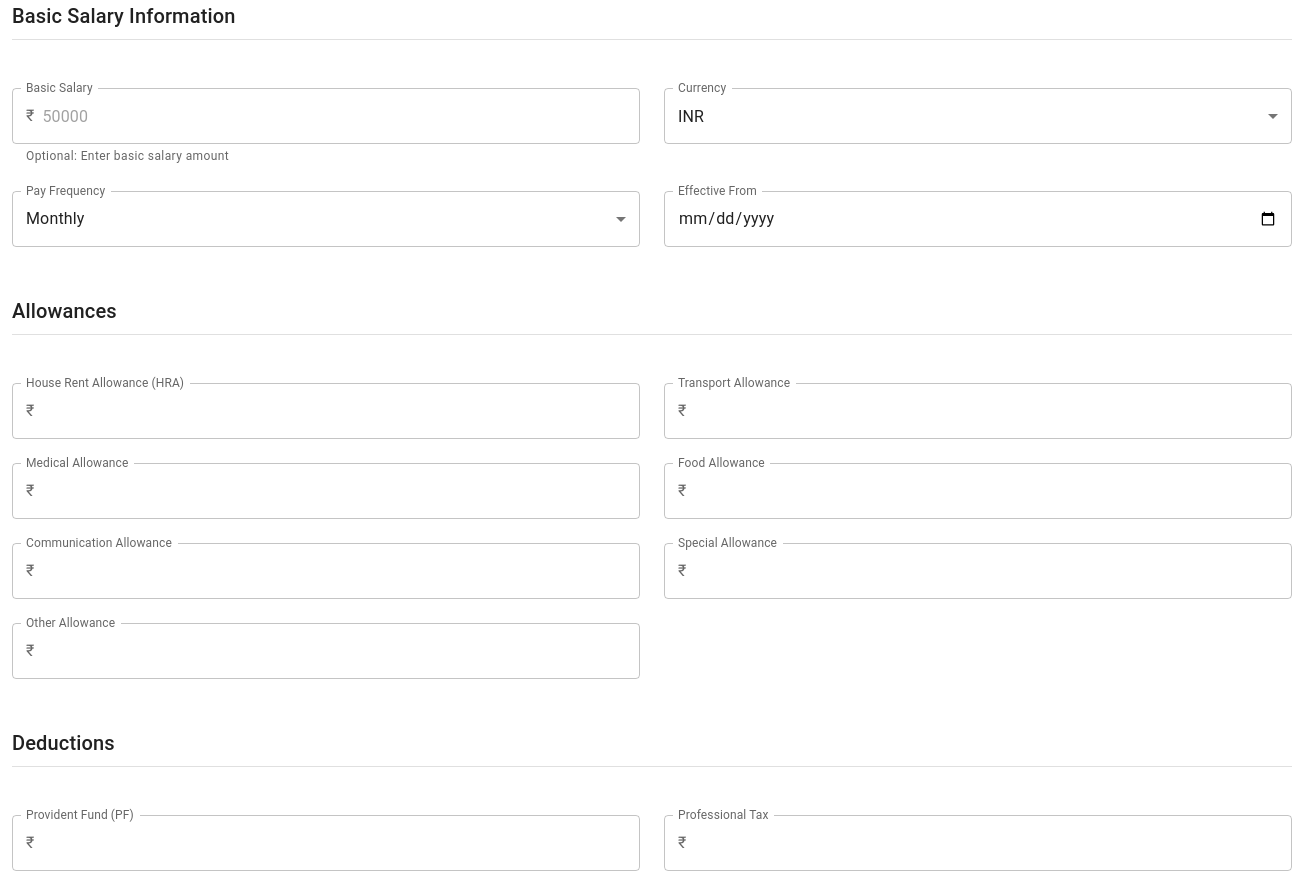
Test: SalaryStructureTab › Currency Select › should have INR, USD, EUR, GBP options
This screenshot has width=1304, height=888.
Step 1. Press the mouse on the dropdown with id "salary" → (691, 116), box [678,106,704,126]
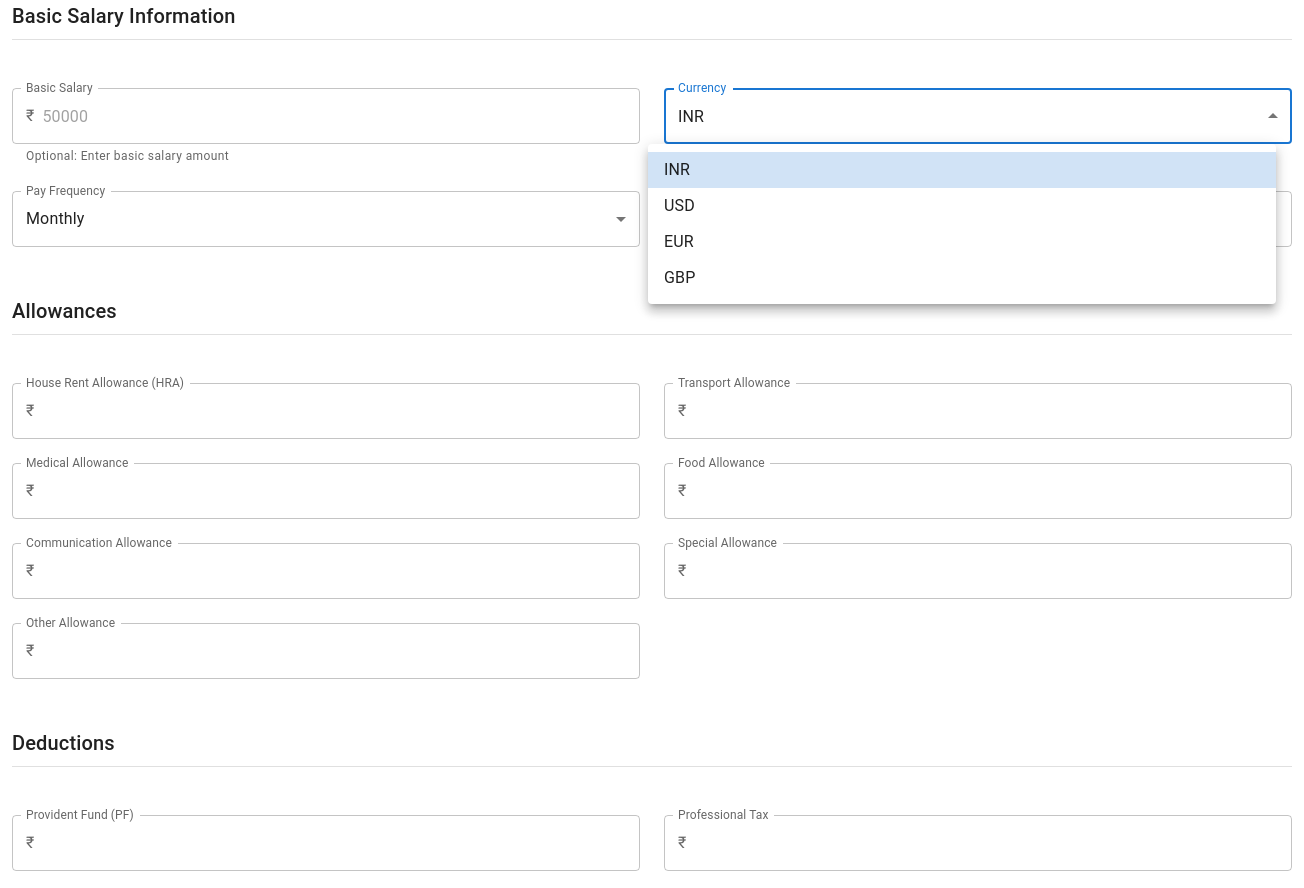
Now the option "USD" is shown, box [664,196,695,215]
Now the option "EUR" is shown, box [664,232,694,251]
Now the option "GBP" is shown, box [664,268,695,287]
